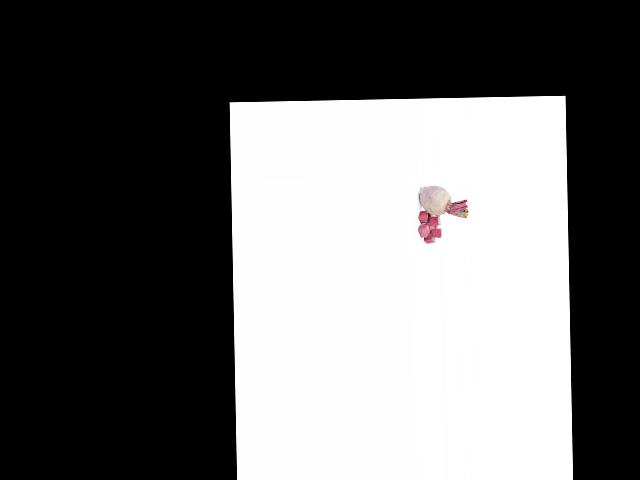beet: (418, 185, 468, 219)
